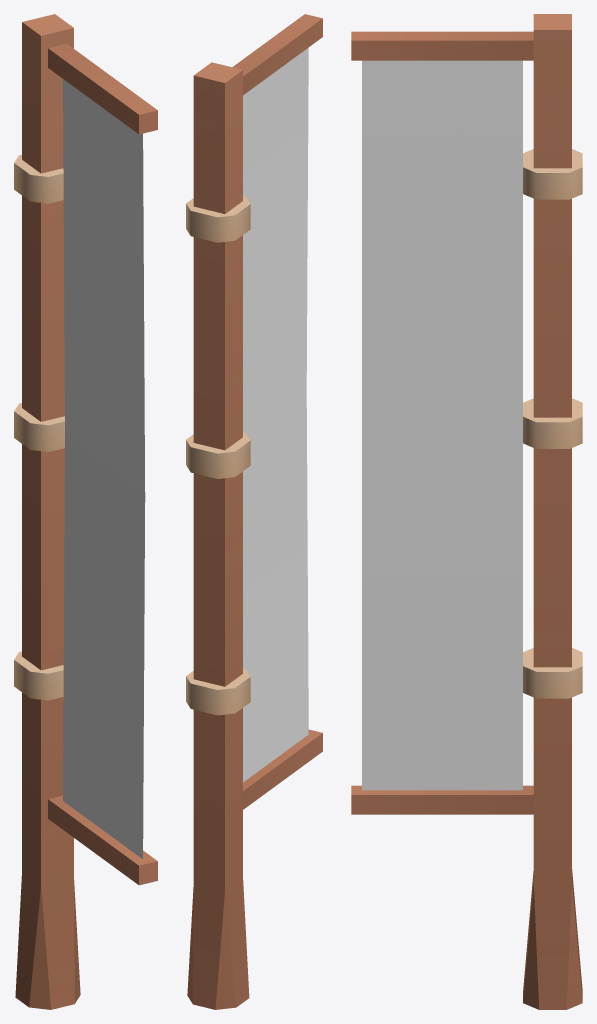
Rendered from nobori.glb.
3 views of the same model, side by side, from view 1: azimuth 30°, elevation 25°; view 2: azimuth 150°, elevation 25°; view 3: azimuth 270°, elevation 25° (orthographic). The views are drawn at different scales.
Parts seen in each view (by area): view 1: blade; view 2: blade; view 3: blade.
Boxes of the visible parts, x1,y1,x2,y2 form: blade: (14,14,157,1009); blade: (186,14,322,1009); blade: (351,14,582,1009).
Size of the model in its own units: 0.111 by 2 by 0.4304.
1 material, 1 textured.
